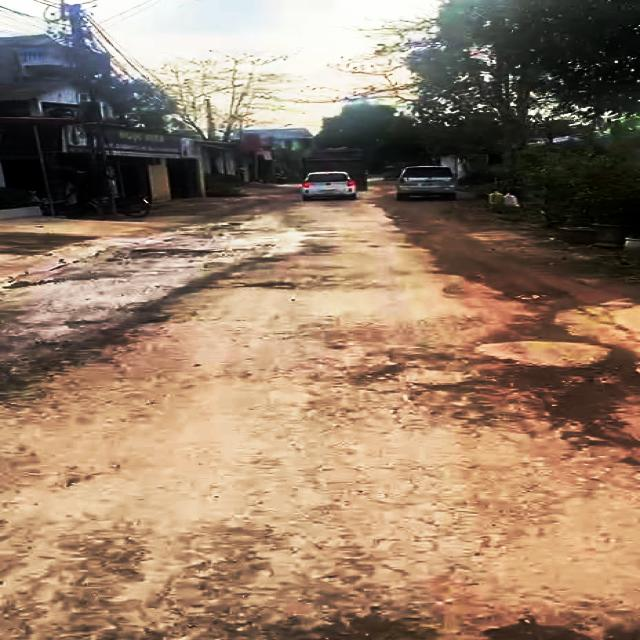pothole: (527, 378, 627, 437)
